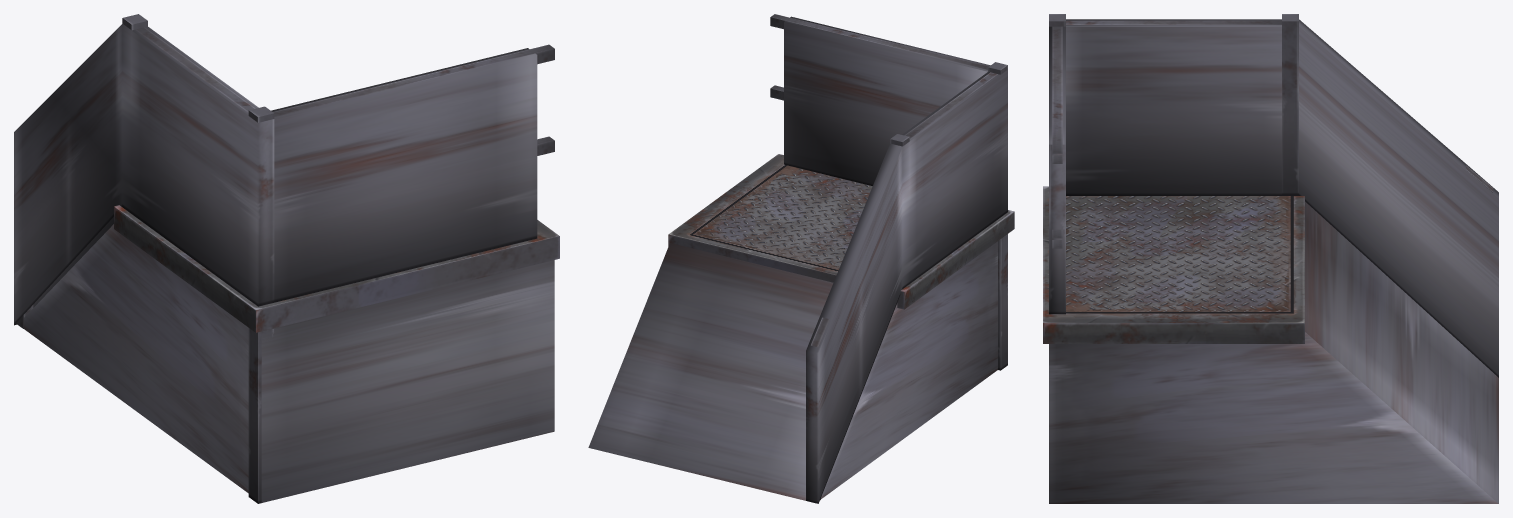
The model's file is stairs04_D.fbx.
3 renders of one model, left to right at view 1: azimuth 30°, elevation 25°; view 2: azimuth 150°, elevation 25°; view 3: azimuth 270°, elevation 25°, orthographic. The views are drawn at different scales.
Visible parts, largest first — view 1: stairs04_D_COL, stairs04_D; view 2: stairs04_D_COL, stairs04_D; view 3: stairs04_D_COL, stairs04_D.
Boxes of the visible parts, <box> form: stairs04_D_COL: <box>14,24,554,502</box>; stairs04_D: <box>17,14,559,503</box>; stairs04_D_COL: <box>588,16,1007,503</box>; stairs04_D: <box>668,14,1014,500</box>; stairs04_D_COL: <box>1049,19,1498,503</box>; stairs04_D: <box>1043,14,1493,343</box>.
Size of the model in its own units: 169 by 205 by 238.
